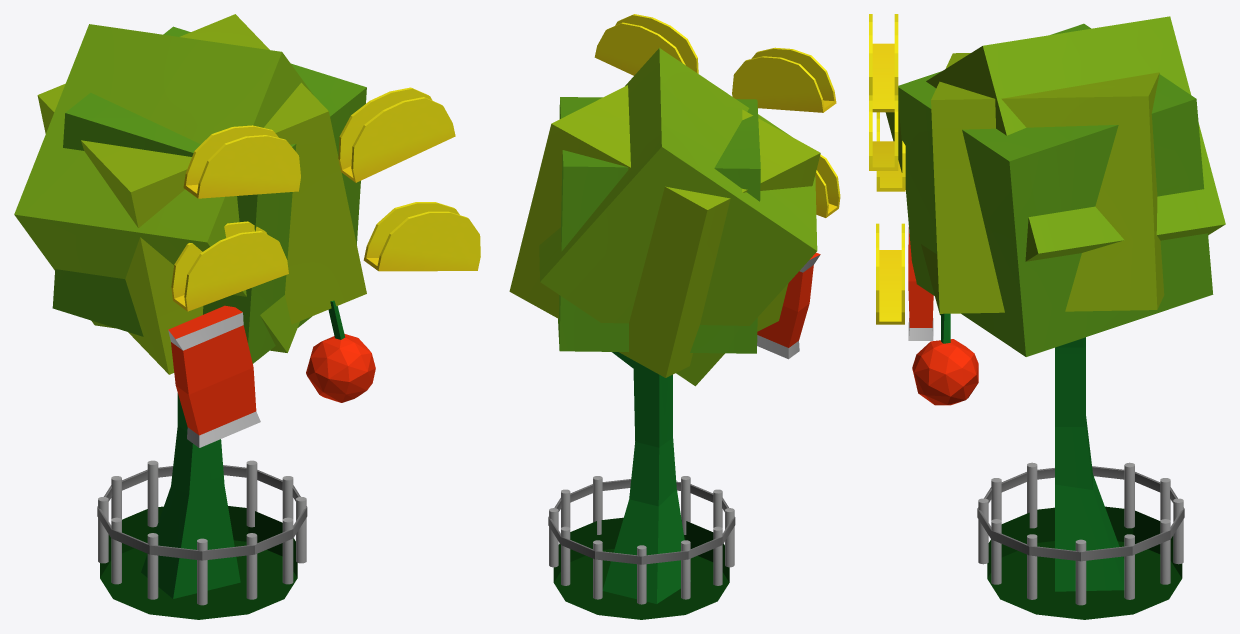
File: tree1.glb
The picture shows the model from 3 angles, left to right: view 1: azimuth 30°, elevation 25°; view 2: azimuth 150°, elevation 25°; view 3: azimuth 270°, elevation 25°; orthographic projection. The views are drawn at different scales.
Visible parts, largest first — view 1: Cube.031, Cube.036, Circle.005, Cube.032, Cube.035, Cube.033, Cube.034, Cylinder.005 (×6), Sphere.001, Circle.007; view 2: Cube.031, Circle.005, Cube.035, Cylinder.005 (×9), Cube.032, Circle.007, Cube.036, Cube.034; view 3: Cube.031, Circle.005, Cylinder.005 (×9), Sphere.001, Circle.007, Cube.033, Cube.035, Cube.036, Cube.032, Cube.034.
Boxes of the visible parts, x1=… form: Cube.031: x1=14, y1=14, x2=366, y2=598; Cube.036: x1=168, y1=305, x2=260, y2=447; Circle.005: x1=100, y1=506, x2=297, y2=619; Cube.032: x1=338, y1=87, x2=455, y2=182; Cube.035: x1=183, y1=125, x2=300, y2=198; Cube.033: x1=363, y1=202, x2=480, y2=271; Cube.034: x1=171, y1=221, x2=288, y2=311; Cylinder.005 (×6): x1=147, y1=460, x2=293, y2=605; Sphere.001: x1=306, y1=300, x2=375, y2=402; Circle.007: x1=97, y1=465, x2=307, y2=560; Cube.031: x1=509, y1=48, x2=820, y2=603; Circle.005: x1=553, y1=517, x2=729, y2=619; Cube.035: x1=732, y1=47, x2=836, y2=112; Cylinder.005 (×9): x1=549, y1=476, x2=734, y2=604; Cube.032: x1=594, y1=14, x2=698, y2=75; Circle.007: x1=548, y1=479, x2=735, y2=564; Cube.036: x1=757, y1=252, x2=820, y2=359; Cube.034: x1=815, y1=154, x2=840, y2=217; Cube.031: x1=885, y1=16, x2=1225, y2=591; Circle.005: x1=987, y1=506, x2=1182, y2=619; Cylinder.005 (×9): x1=978, y1=462, x2=1183, y2=605; Sphere.001: x1=912, y1=313, x2=978, y2=405; Circle.007: x1=977, y1=466, x2=1184, y2=561; Cube.033: x1=876, y1=223, x2=904, y2=324; Cube.035: x1=869, y1=14, x2=898, y2=112; Cube.036: x1=908, y1=227, x2=933, y2=340; Cube.032: x1=869, y1=95, x2=898, y2=170; Cube.034: x1=876, y1=112, x2=905, y2=191.
Bounding box in the file's own units: 19.07 × 27.9 × 16.29.
1 material, 1 textured.
